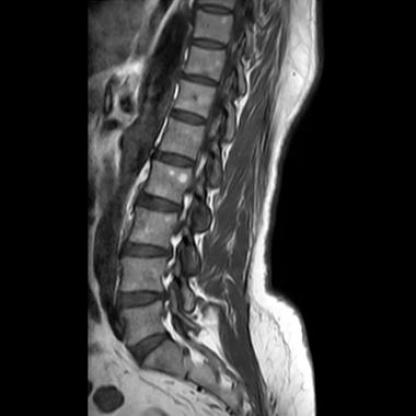Disc Bulgerotation: (117, 285, 165, 315), (120, 238, 171, 263)
